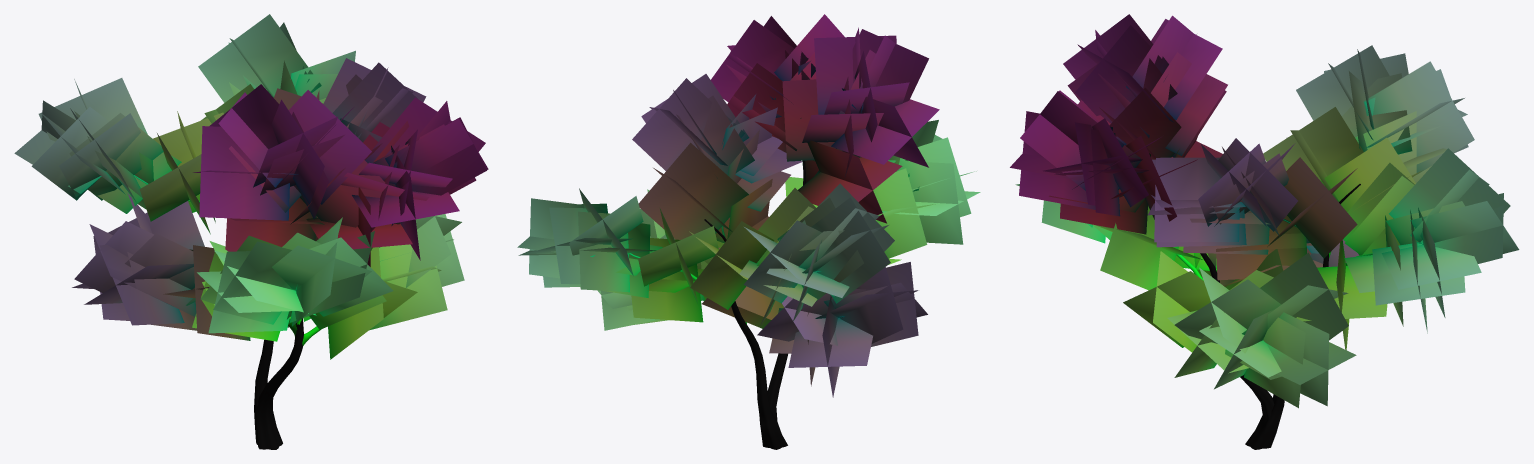
File: URP_P3_Tree_4_LOD_1.fbx
3 views of the same model, side by side, from view 1: azimuth 30°, elevation 25°; view 2: azimuth 150°, elevation 25°; view 3: azimuth 270°, elevation 25° (orthographic). The views are drawn at different scales.
Parts seen in each view (by area): view 1: Tree_4_LOD_1; view 2: Tree_4_LOD_1; view 3: Tree_4_LOD_1.
Part boxes in pixels (x1,y1,x2,y2): Tree_4_LOD_1: (14,14,488,449); Tree_4_LOD_1: (517,14,980,449); Tree_4_LOD_1: (1010,14,1519,449).
Bounding box in the file's own units: 524 × 556 × 632.
